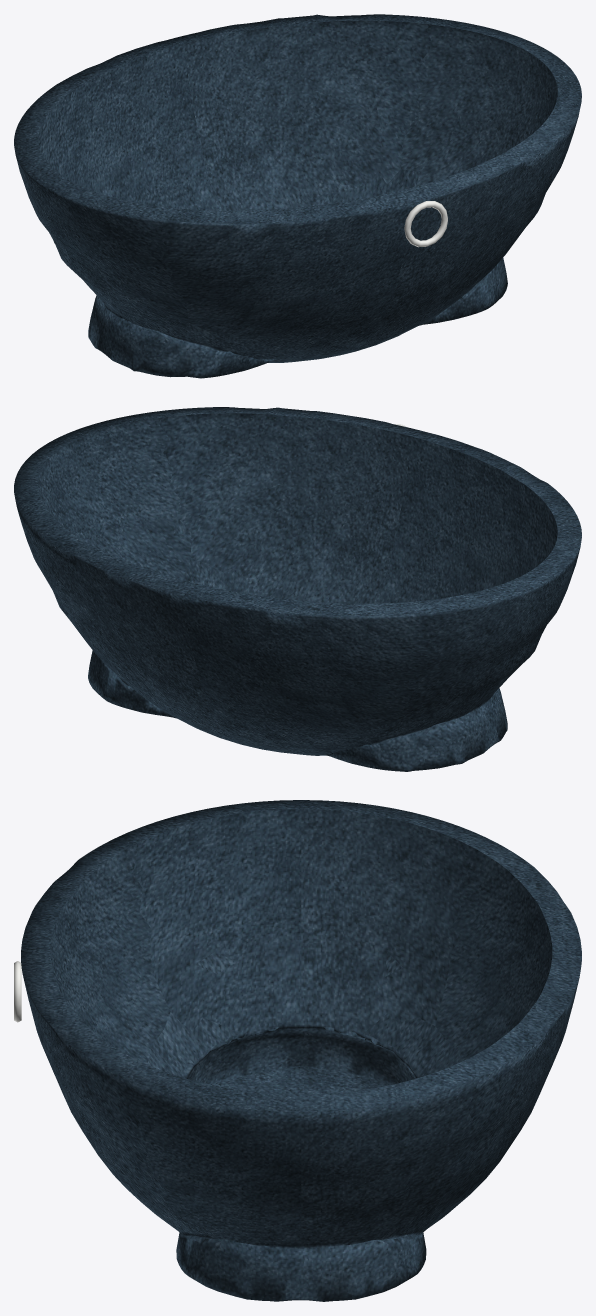
The model's file is shorts2.fbx.
3 views of the same model, one above another, from view 1: azimuth 30°, elevation 25°; view 2: azimuth 150°, elevation 25°; view 3: azimuth 270°, elevation 25° (orthographic). The views are drawn at different scales.
Parts seen in each view (by area): view 1: shorts2; view 2: shorts2; view 3: shorts2.
Boxes of the visible parts, x1=… form: shorts2: x1=14, y1=14, x2=581, y2=378; shorts2: x1=14, y1=407, x2=581, y2=771; shorts2: x1=14, y1=800, x2=581, y2=1301.
Size of the model in its own units: 0.8311 by 0.3457 by 0.6425.
2 materials, 1 textured.
